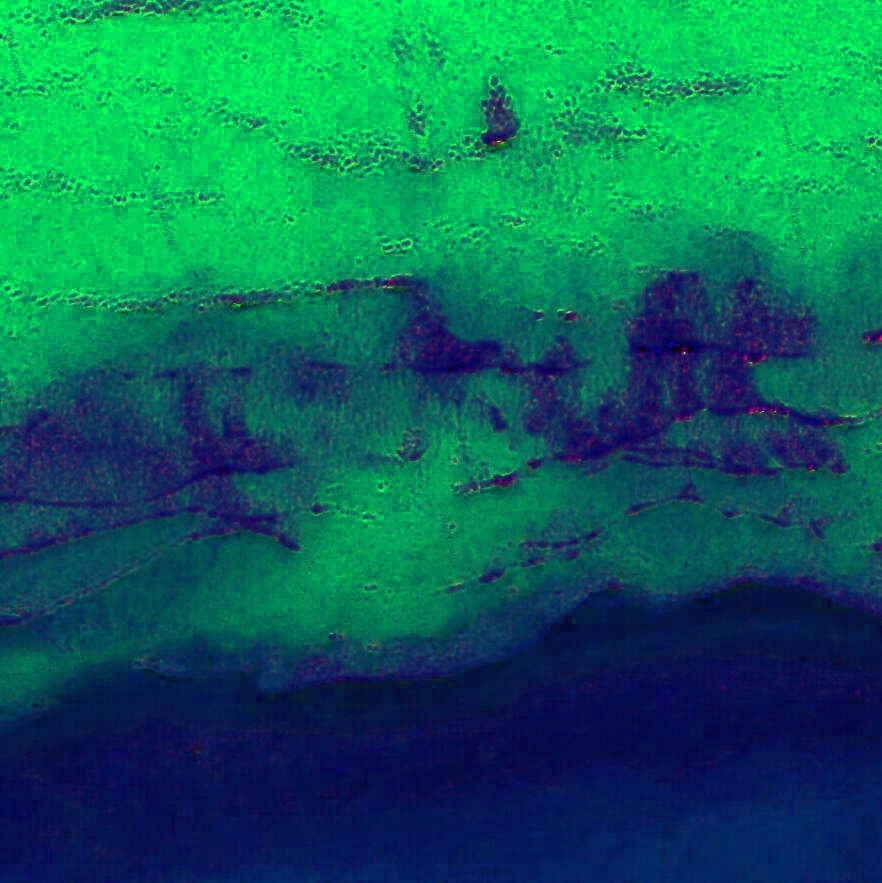rip_current: (263, 282, 553, 615)
